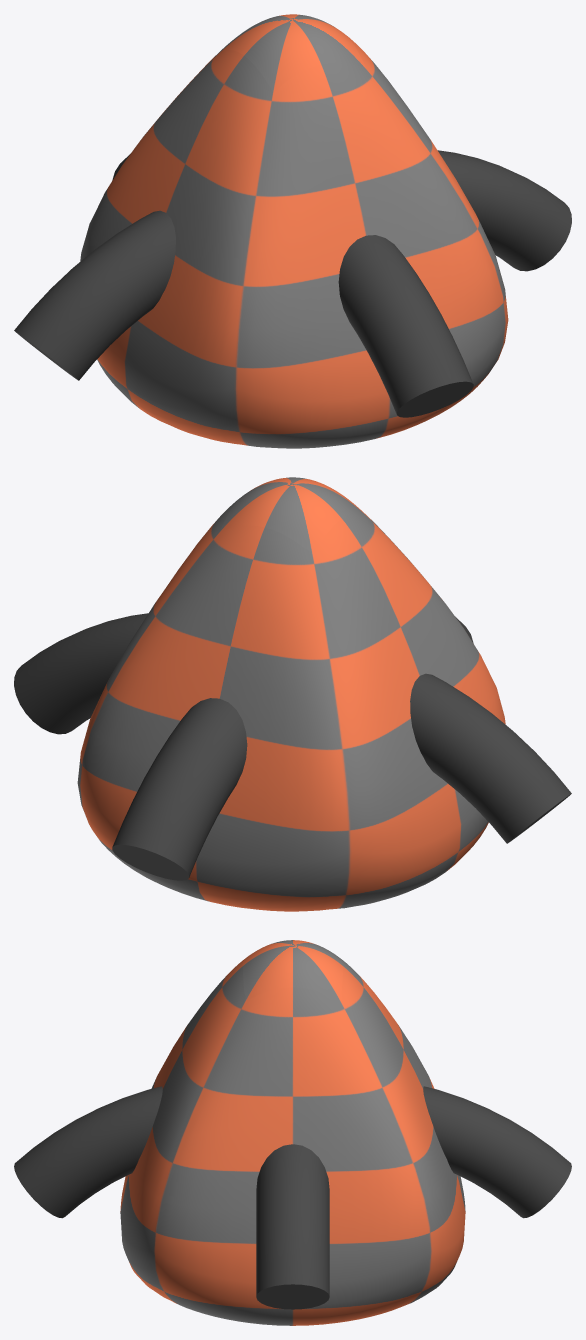
File: Body(Pyramidal)+Colour(More_Orange)+Arms(Bent_Down)+Pattern(Checkered).fbx
The picture shows the model from 3 angles, top to bottom: view 1: azimuth 30°, elevation 25°; view 2: azimuth 150°, elevation 25°; view 3: azimuth 270°, elevation 25°; orthographic projection. The views are drawn at different scales.
Parts seen in each view (by area): view 1: Body(Pyramidal)+Colour(More_Orange)+Arms(Bent_Down)+Pattern( (×4); view 2: Body(Pyramidal)+Colour(More_Orange)+Arms(Bent_Down)+Pattern( (×4); view 3: Body(Pyramidal)+Colour(More_Orange)+Arms(Bent_Down)+Pattern( (×4).
Part boxes in pixels (x1=…): Body(Pyramidal)+Colour(More_Orange)+Arms(Bent_Down)+Pattern( (×4): x1=14, y1=14, x2=571, y2=448; Body(Pyramidal)+Colour(More_Orange)+Arms(Bent_Down)+Pattern( (×4): x1=14, y1=477, x2=571, y2=911; Body(Pyramidal)+Colour(More_Orange)+Arms(Bent_Down)+Pattern( (×4): x1=14, y1=940, x2=571, y2=1325.
Size of the model in its own units: 60.67 by 40 by 60.67.
Materials: 2 (2 with a texture image).
